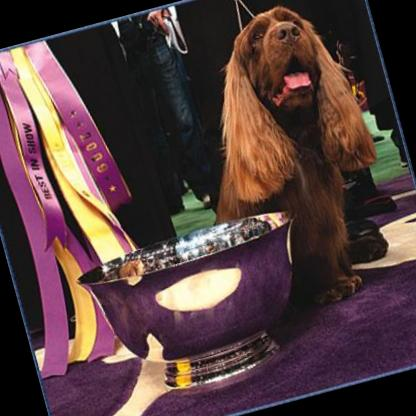Sussex_spaniel: (167, 0, 411, 328)
